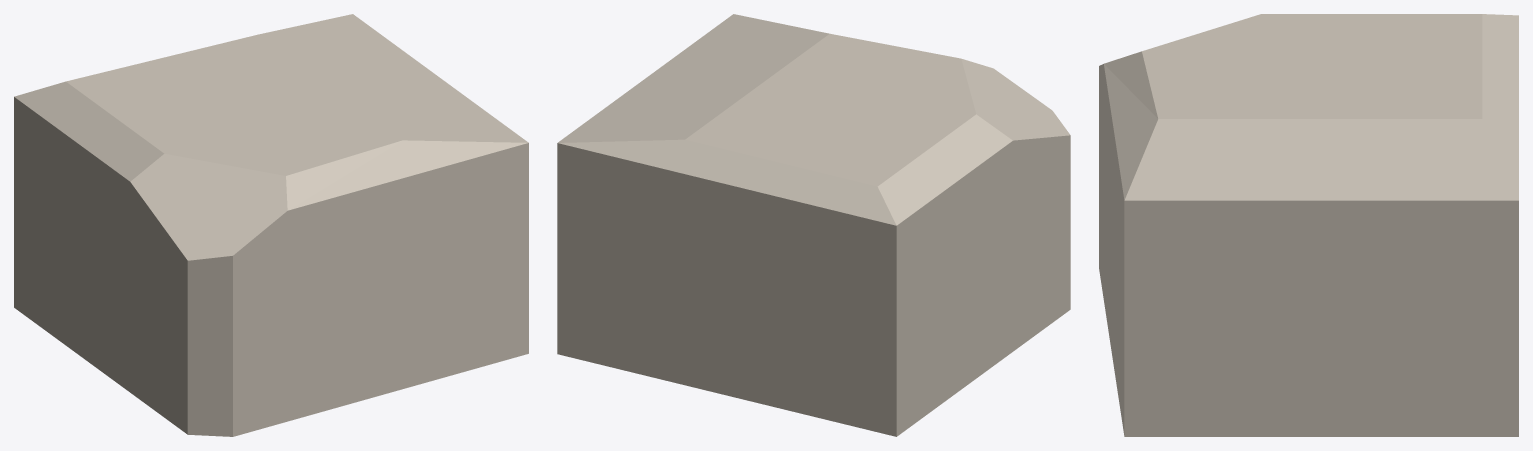
File: Rock_Square_s_05.fbx
3 renders of one model, left to right at view 1: azimuth 30°, elevation 25°; view 2: azimuth 150°, elevation 25°; view 3: azimuth 270°, elevation 25°, orthographic. The views are drawn at different scales.
Visible parts, largest first — view 1: Rock_Square_s_05; view 2: Rock_Square_s_05; view 3: Rock_Square_s_05.
Part boxes in pixels (<box>): Rock_Square_s_05: <box>14,14,528,436</box>; Rock_Square_s_05: <box>557,14,1070,436</box>; Rock_Square_s_05: <box>1099,14,1518,436</box>.
Size of the model in its own units: 40.23 by 26.02 by 38.51.
